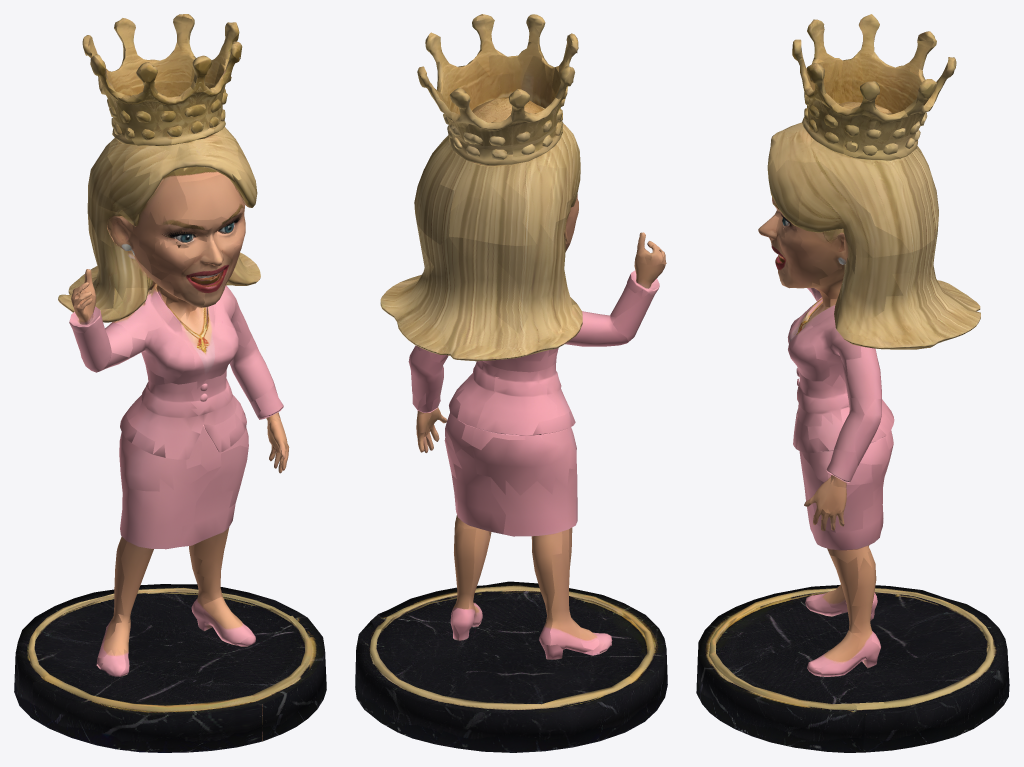
File: right-queen-leavitt.glb
3 renders of one model, left to right at view 1: azimuth 30°, elevation 25°; view 2: azimuth 150°, elevation 25°; view 3: azimuth 270°, elevation 25°, orthographic.
Size of the model in its own units: 0.4395 by 1 by 0.4385.
Materials: 1 (1 with a texture image).
